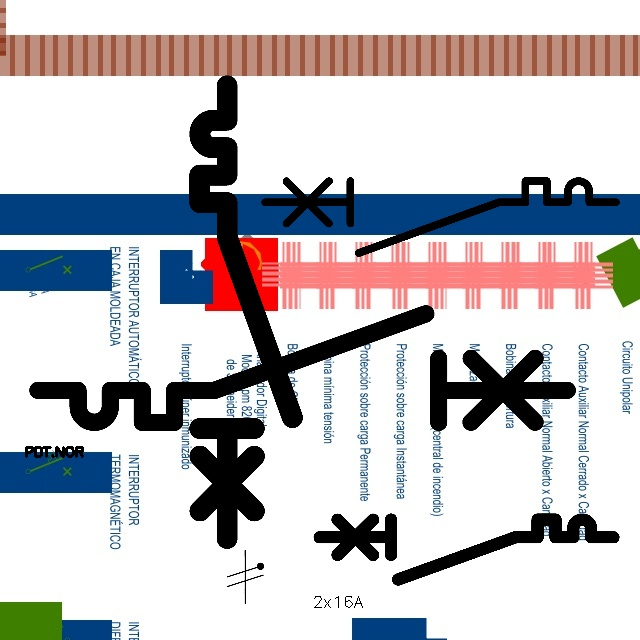interruptor_termomagnetico: (24, 300, 580, 436), (188, 74, 304, 550), (256, 172, 625, 262), (312, 512, 621, 587)
